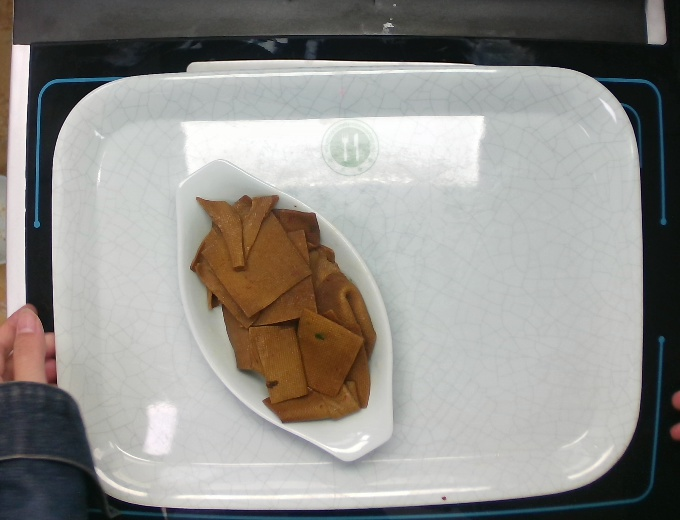JYsf-Yu_Pan: (159, 148, 403, 469)
